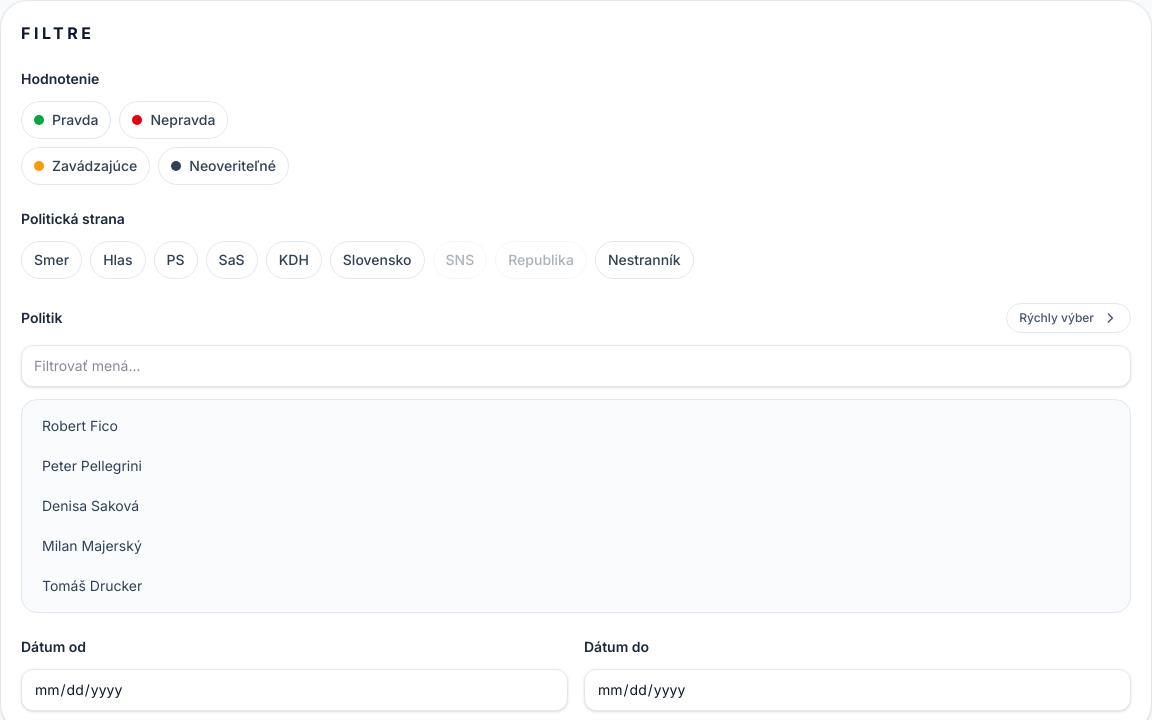
Test: FilterSidebar › clears active filters from the text-only header action
Click the button "Hlas" at (118, 260), box [90, 241, 146, 279]
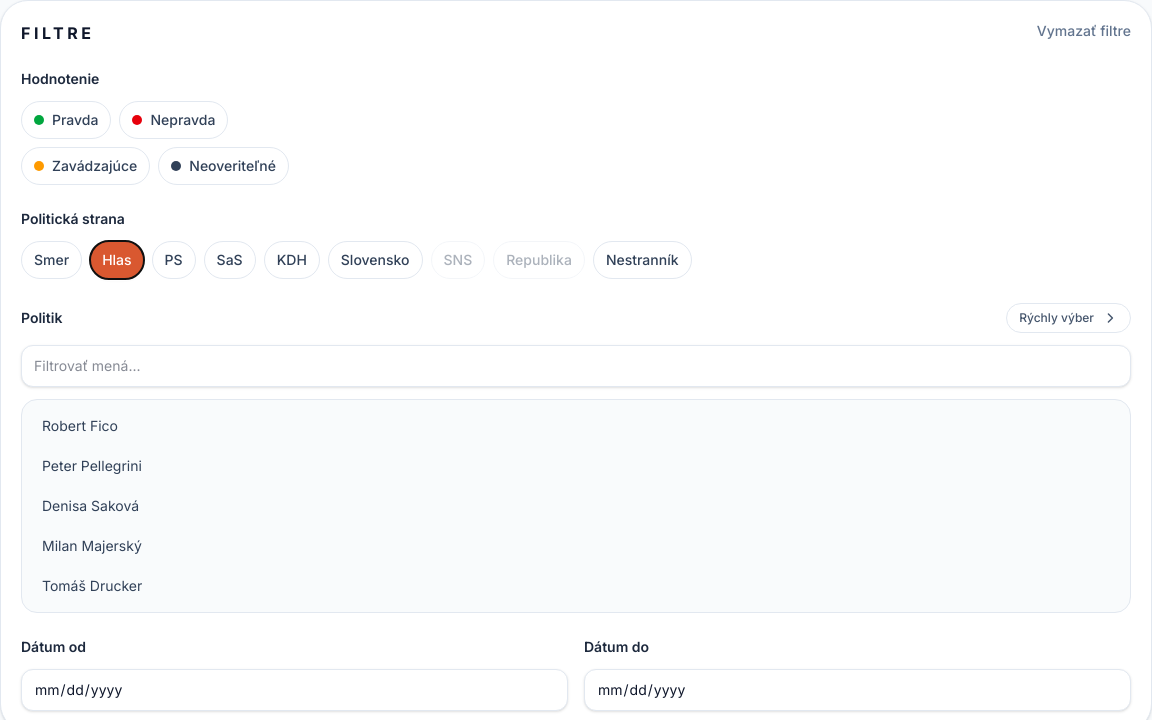
Click the button "Vymazať filtre" at (1084, 31), box [1037, 21, 1131, 41]
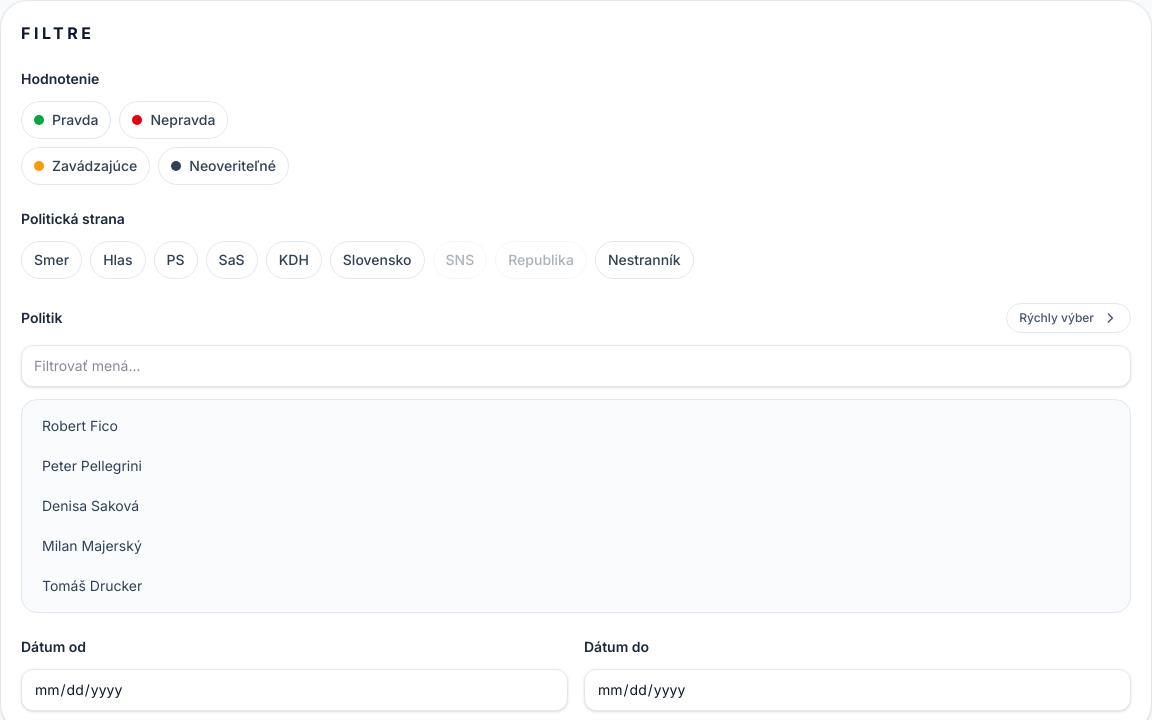
Check: the button "Vymazať filtre" is gone
